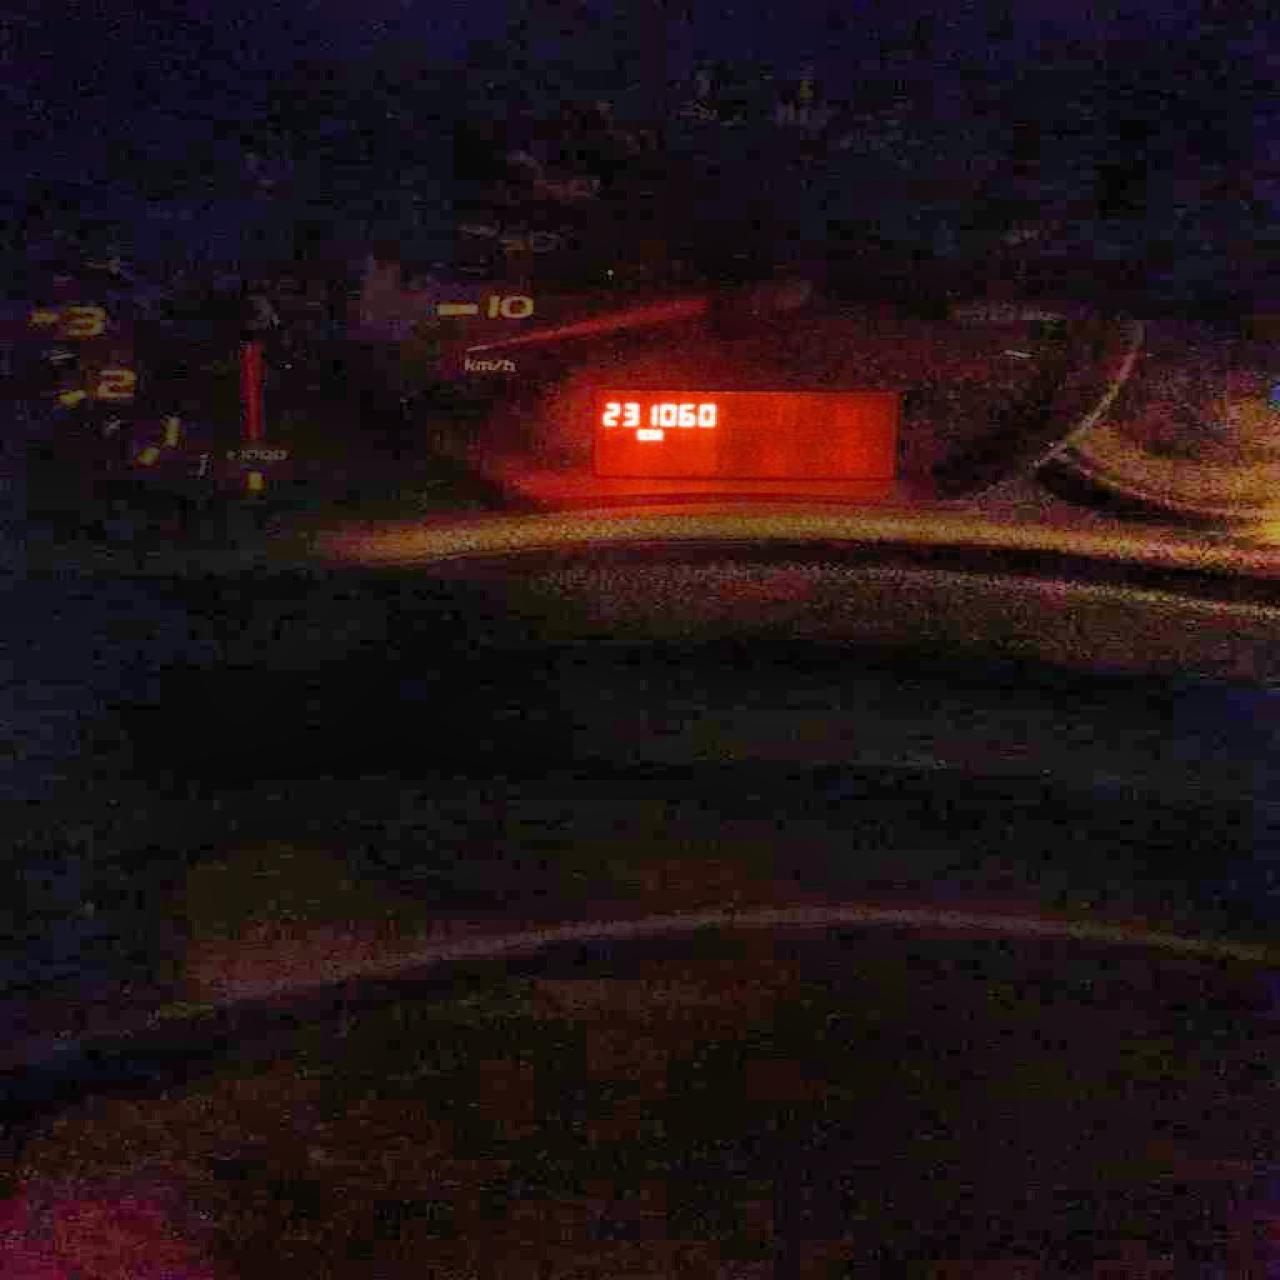0: (695, 402, 716, 428), (656, 402, 676, 427)
1: (644, 402, 656, 428)
2: (600, 402, 620, 428)
3: (621, 400, 640, 428)
6: (676, 402, 695, 428)
X: (635, 428, 648, 441), (648, 429, 663, 440)
odometer: (588, 384, 899, 481)
